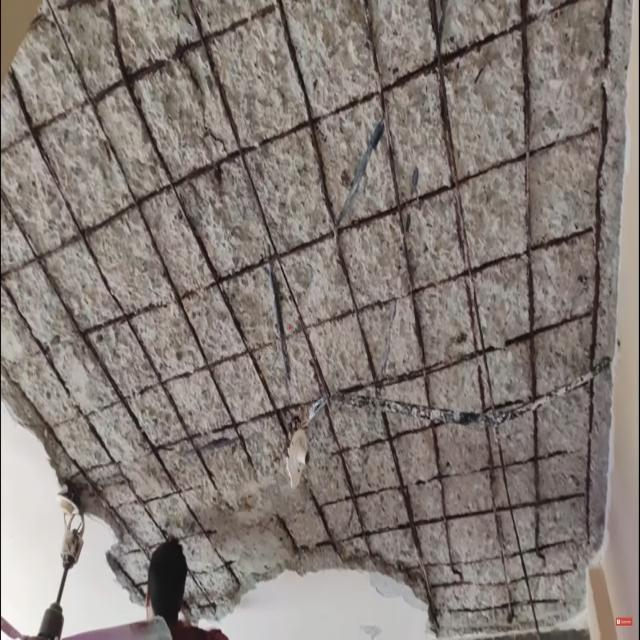Spalling: (3, 3, 635, 636)
